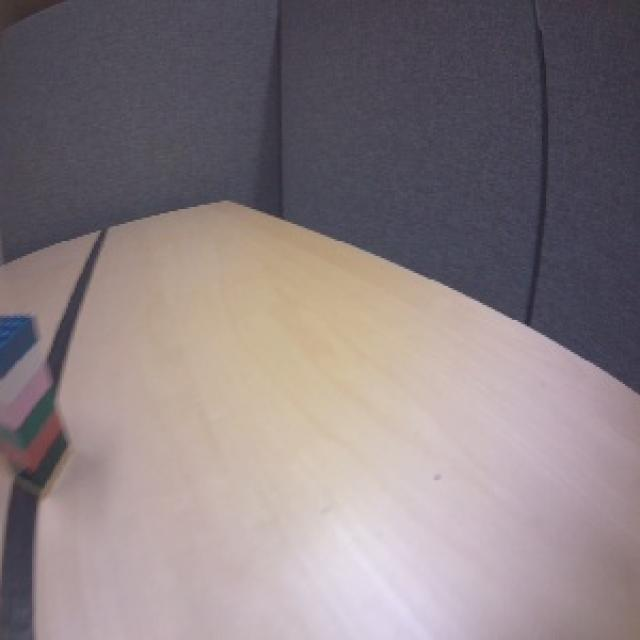obstacle: (1, 310, 79, 505)
